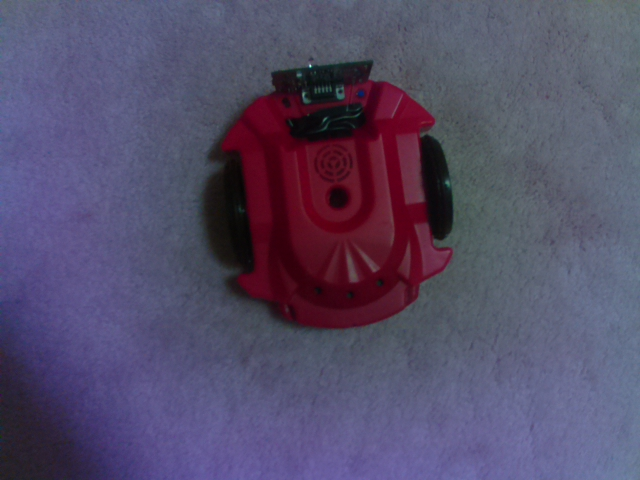chassis: (207, 57, 461, 338)
